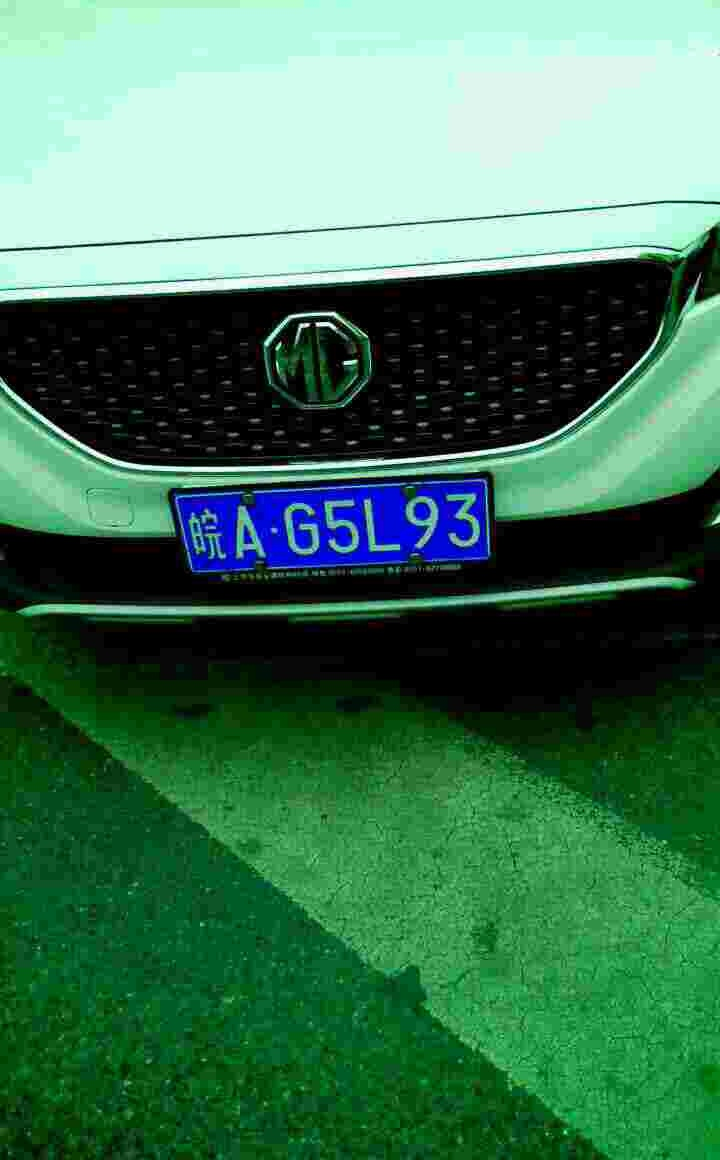license_plate: (186, 473, 498, 589)
